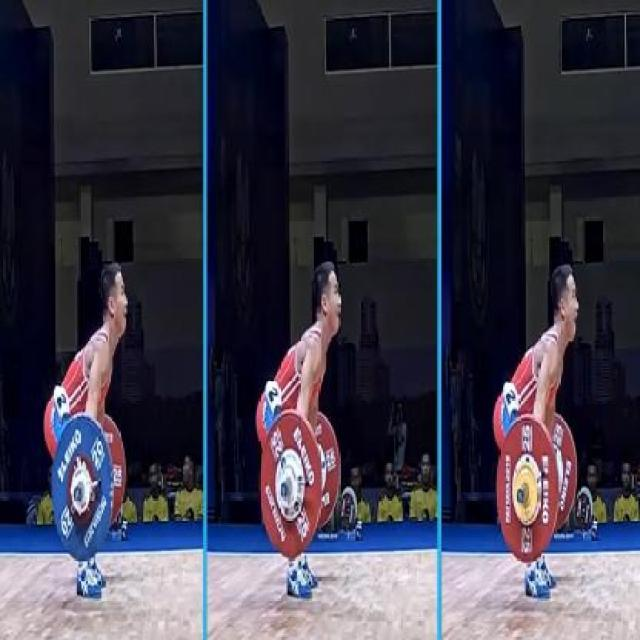barbell: (494, 402, 566, 565), (52, 403, 118, 579), (258, 403, 327, 563)
